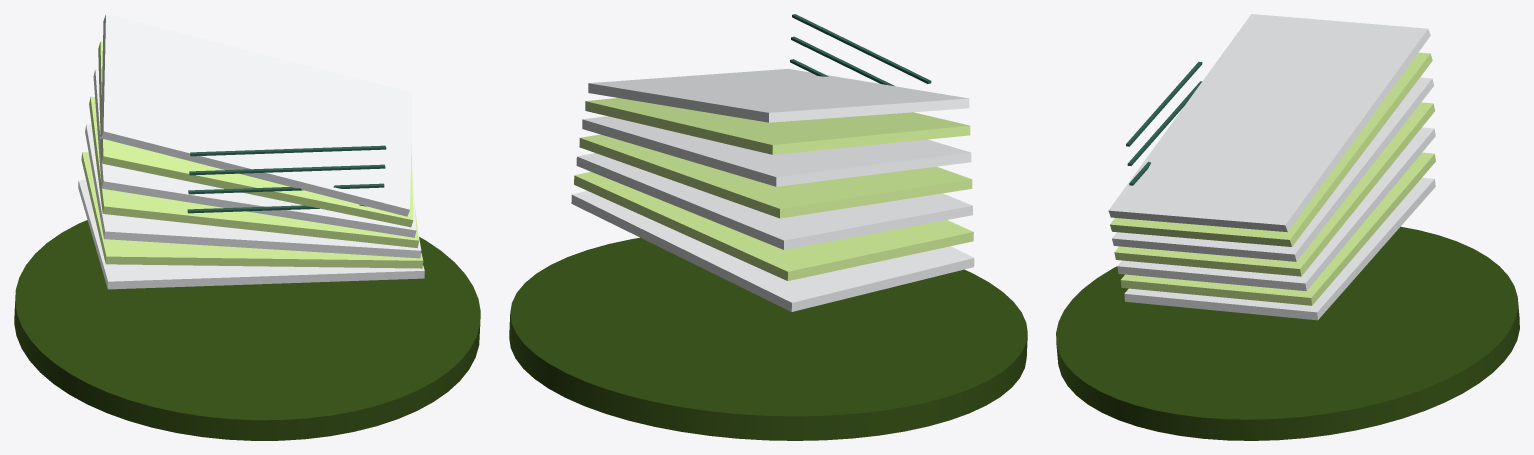
Rendered from Paper.glb.
The picture shows the model from 3 angles, left to right: view 1: azimuth 30°, elevation 25°; view 2: azimuth 150°, elevation 25°; view 3: azimuth 270°, elevation 25°; orthographic projection. The views are drawn at different scales.
Bounding box in the file's own units: 2.36 × 1.66 × 2.36.
